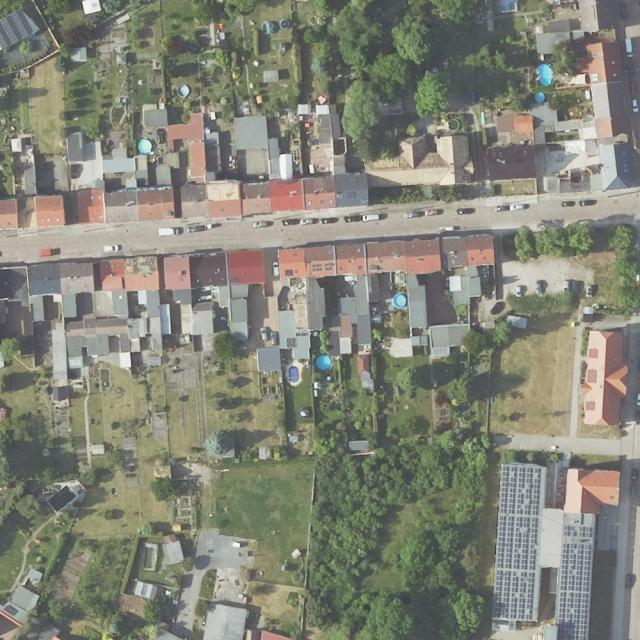PV: (494, 466, 541, 619), (558, 543, 591, 639), (578, 526, 594, 539), (564, 525, 575, 537), (311, 262, 323, 271), (324, 262, 334, 270)
ST: (284, 269, 293, 275)
